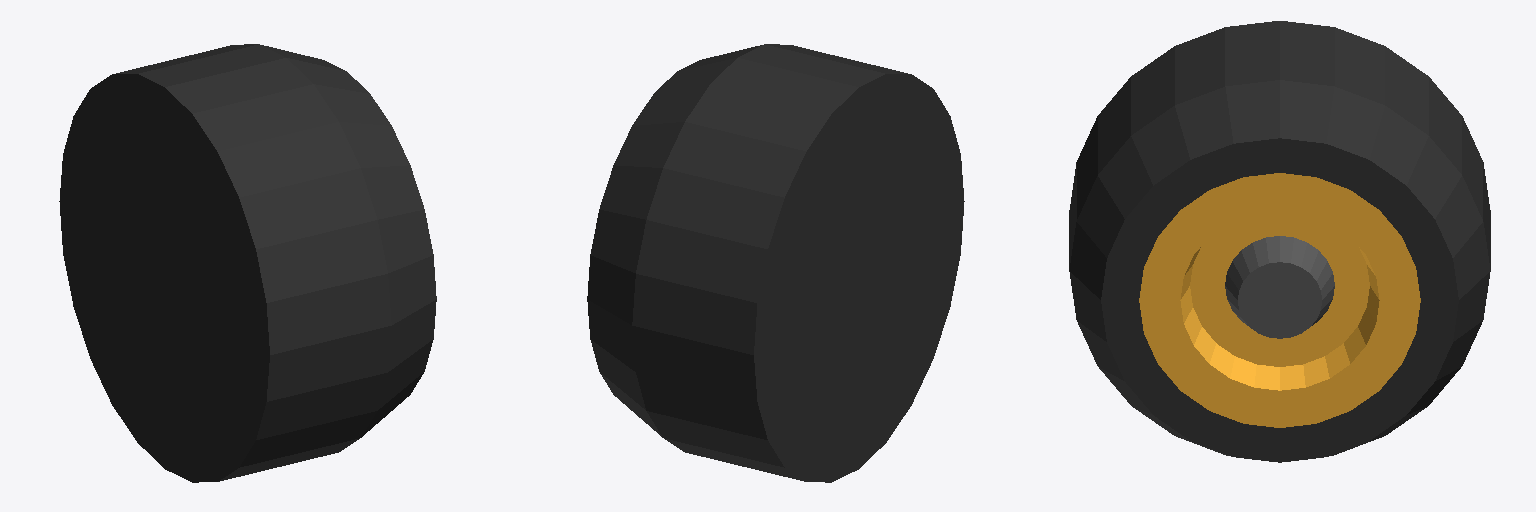
The model's file is wheelTractorBack.obj.
The picture shows the model from 3 angles: view 1: azimuth 30°, elevation 25°; view 2: azimuth 150°, elevation 25°; view 3: azimuth 270°, elevation 25°; orthographic projection.
Parts seen in each view (by area): view 1: wheelTractorBack; view 2: wheelTractorBack; view 3: wheelTractorBack.
Boxes of the visible parts, x1=… form: wheelTractorBack: x1=59, y1=44, x2=436, y2=482; wheelTractorBack: x1=587, y1=44, x2=964, y2=482; wheelTractorBack: x1=1069, y1=21, x2=1490, y2=462.
Size of the model in its own units: 0.4376 by 0.8752 by 0.8752.